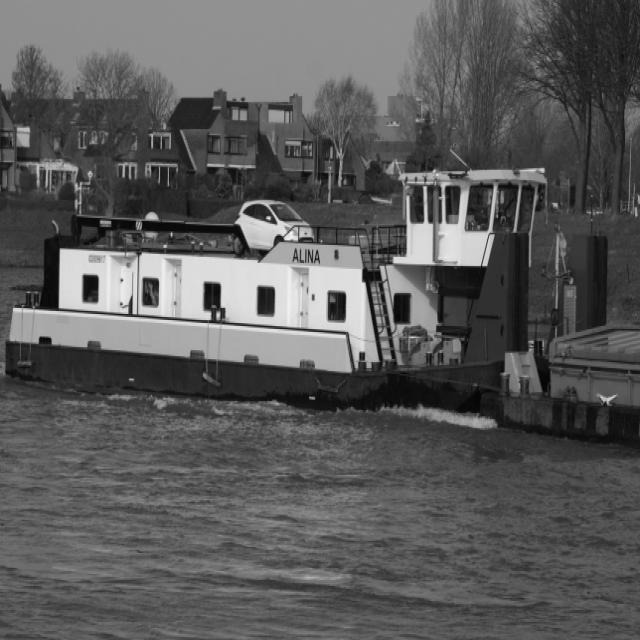tugboat: (1, 148, 615, 440)
